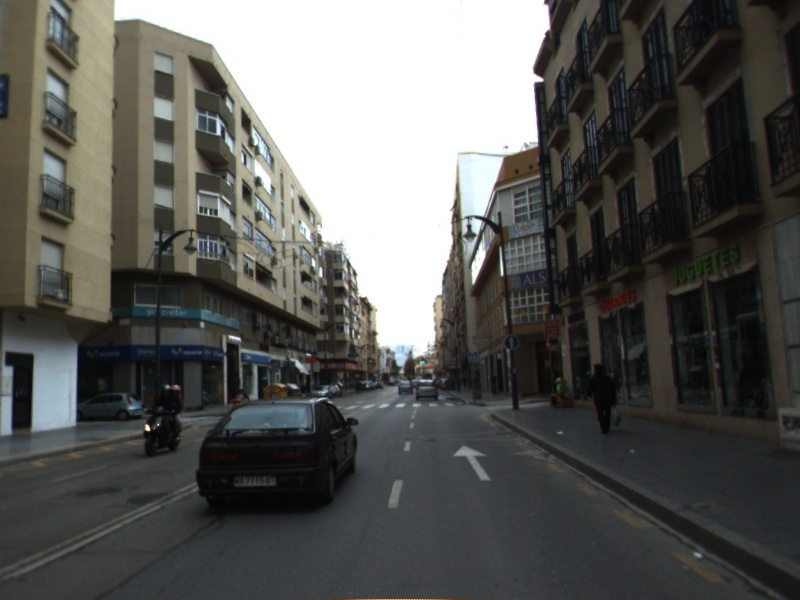STRAIGHT: (450, 443, 494, 483)
